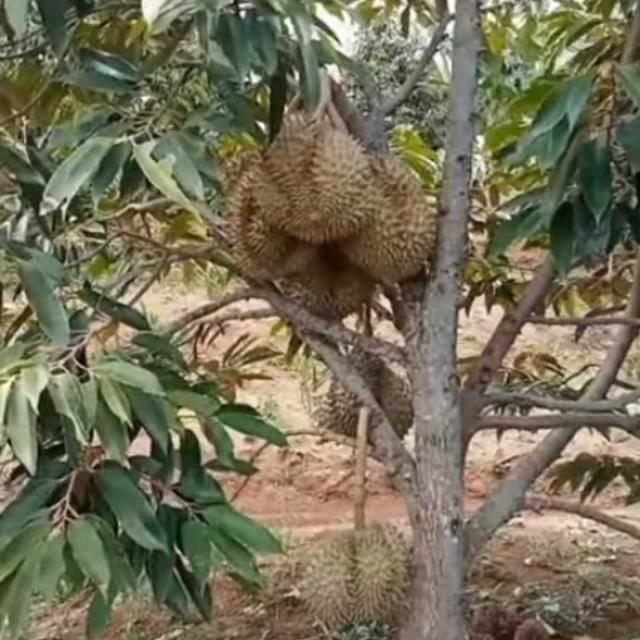mature: (253, 113, 380, 251), (213, 139, 334, 283), (331, 150, 447, 290), (301, 506, 416, 636)
